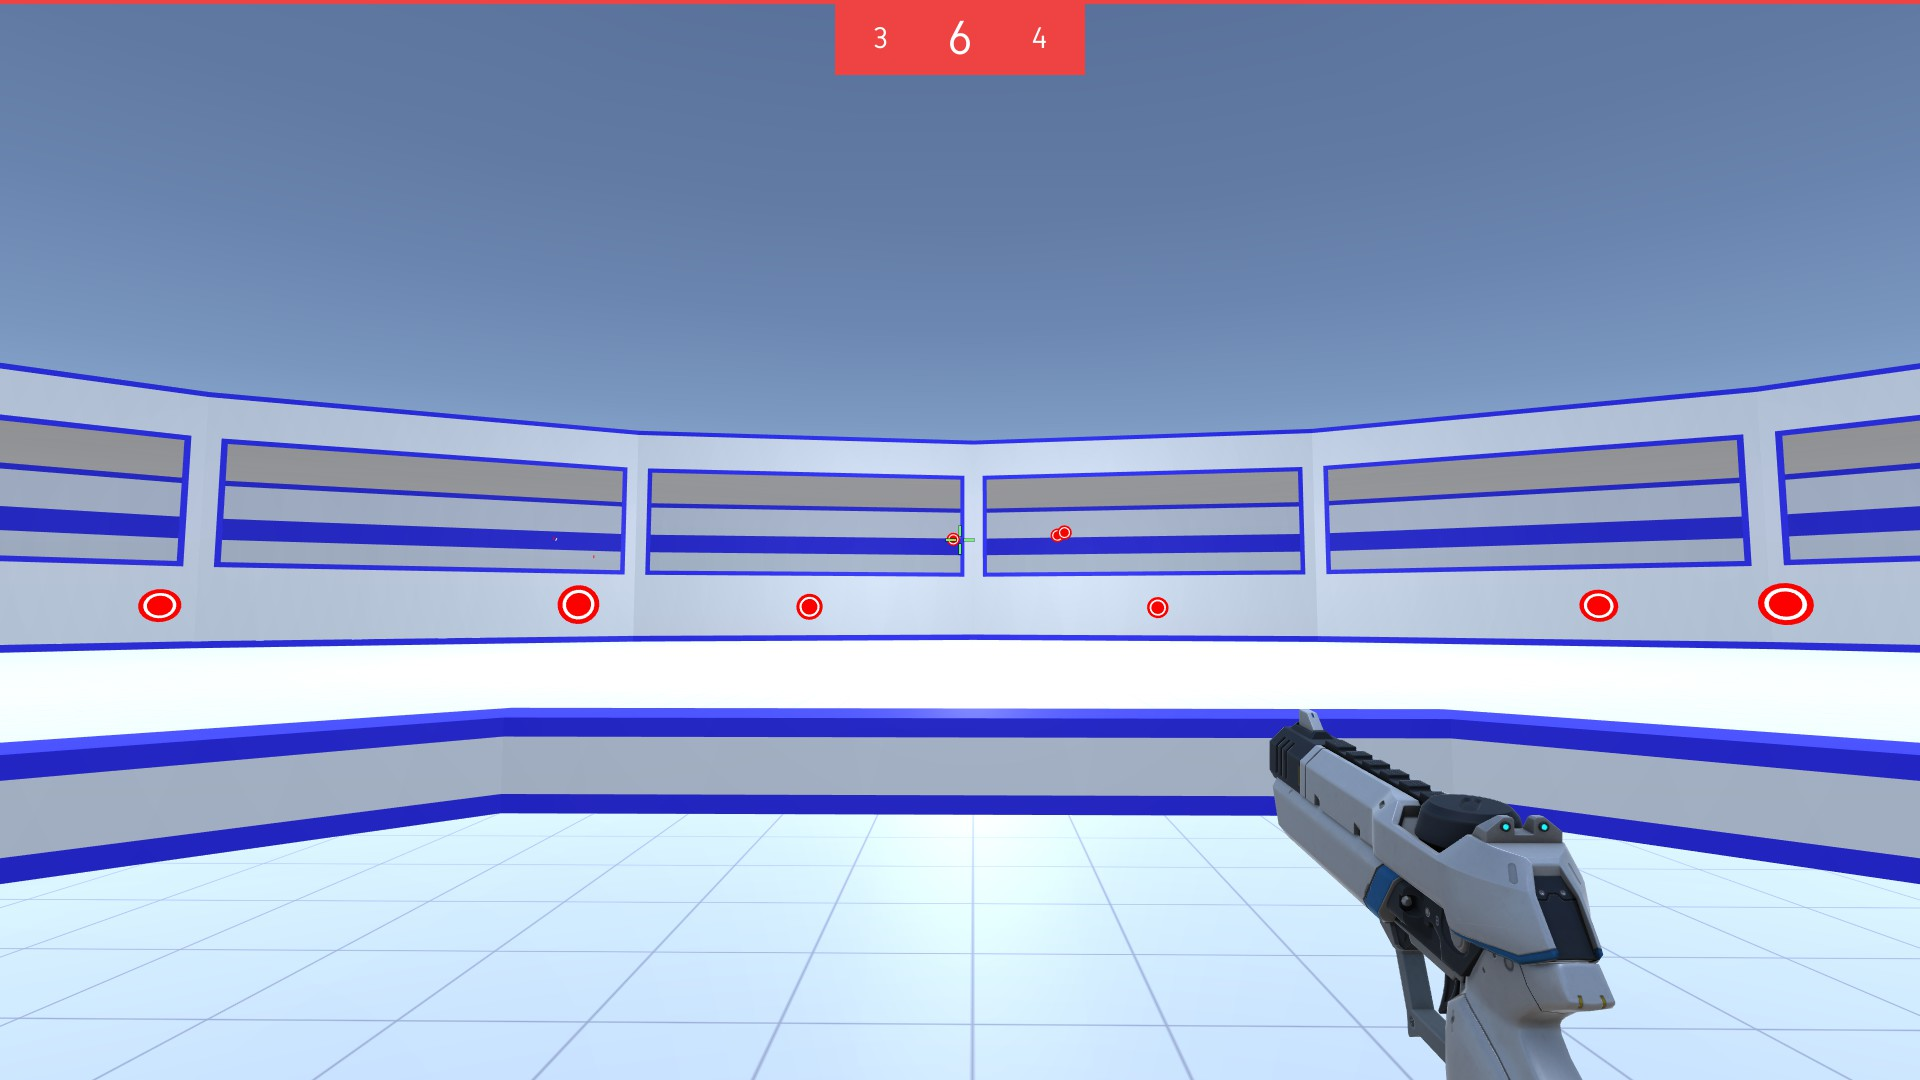target: (1756, 580, 1815, 628), (138, 587, 185, 626), (556, 585, 601, 624), (1578, 589, 1619, 624), (793, 591, 827, 622), (1146, 596, 1168, 618), (944, 531, 963, 547), (1058, 525, 1072, 539), (1048, 527, 1063, 541)
